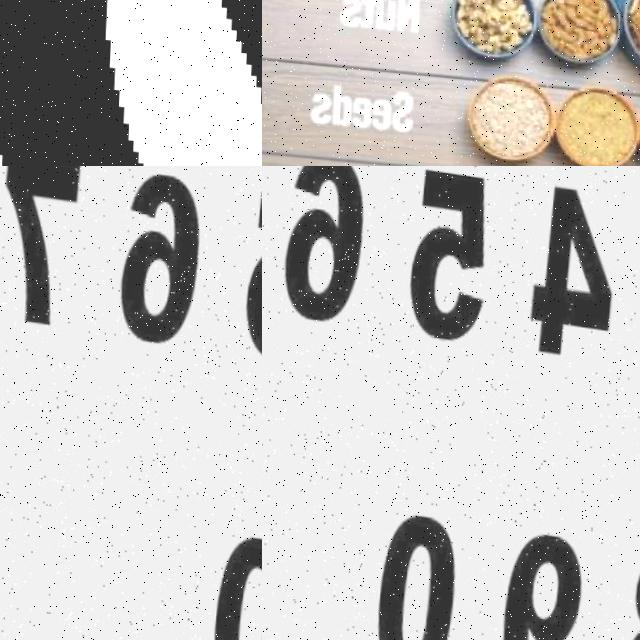0: (364, 463, 472, 640), (200, 485, 262, 640)
4: (523, 166, 625, 375)
5: (393, 166, 507, 361), (229, 166, 262, 383)
6: (106, 166, 218, 365), (270, 166, 382, 343)
7: (0, 166, 91, 351)
9: (495, 486, 597, 640)
A: (0, 0, 262, 166)
